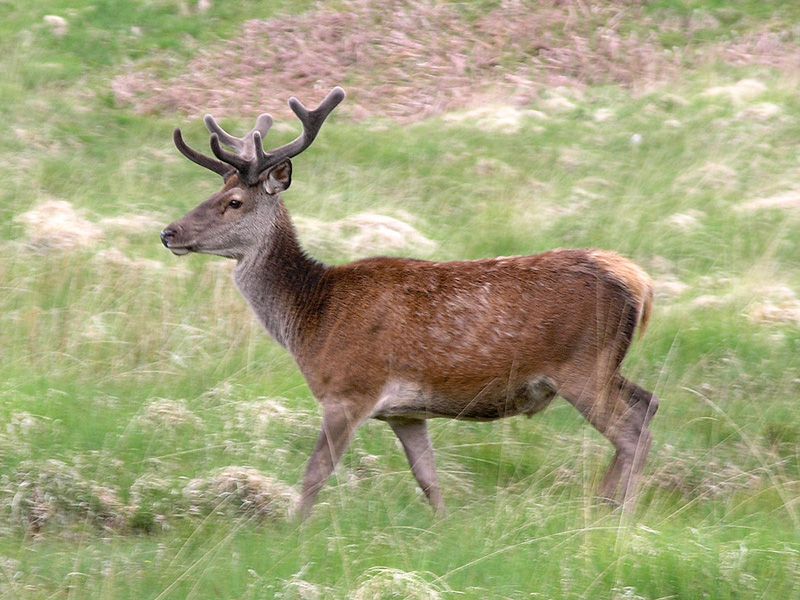cervo: (142, 97, 670, 521)
